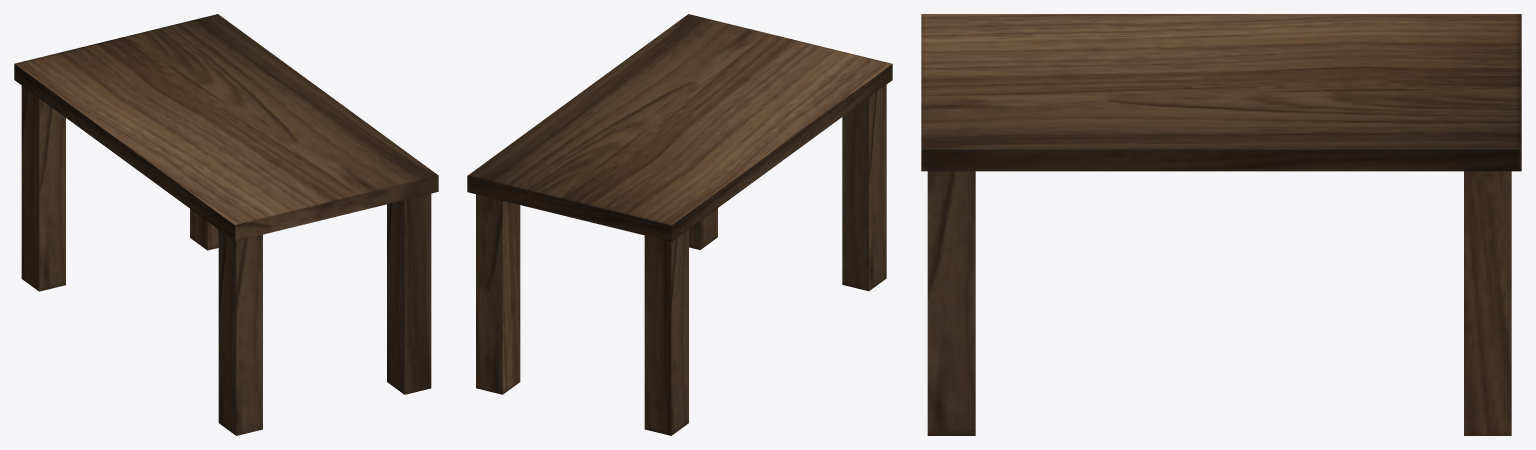
The model's file is CommonTable.fbx.
3 views of the same model, side by side, from view 1: azimuth 30°, elevation 25°; view 2: azimuth 150°, elevation 25°; view 3: azimuth 270°, elevation 25° (orthographic). The views are drawn at different scales.
Visible parts, largest first — view 1: Cube.005; view 2: Cube.005; view 3: Cube.005.
Part boxes in pixels (left/top/right/bottom): Cube.005: left=14, top=14, right=438, bottom=435; Cube.005: left=467, top=14, right=892, bottom=435; Cube.005: left=921, top=14, right=1521, bottom=435.
Bounding box in the file's own units: 80 × 80 × 150.
Materials: 1 (1 with a texture image).
